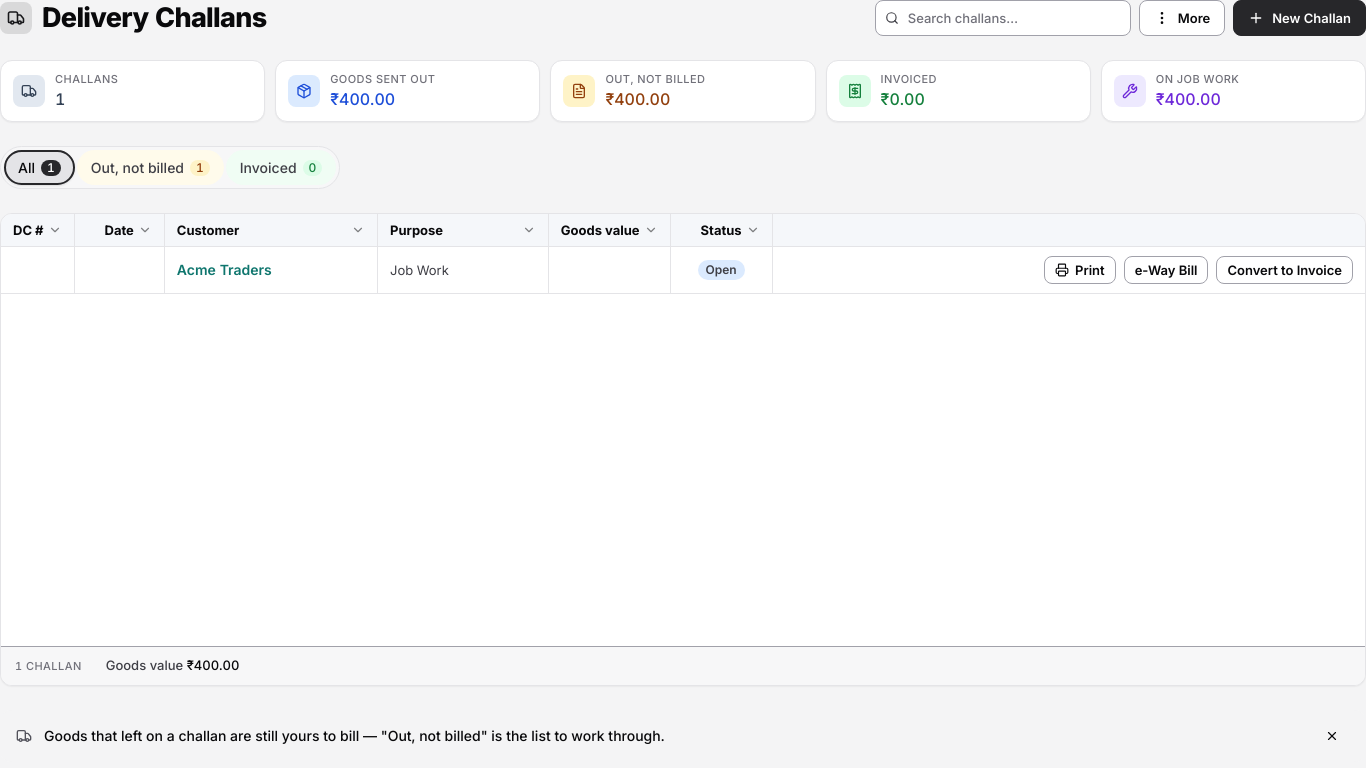
Scenario: printing a delivery challan › puts the challan on paper with its vehicle number
Click the button with aria-label "Print challan DC-4" at x=1080, y=270, box left=1044, top=256, right=1116, bottom=284
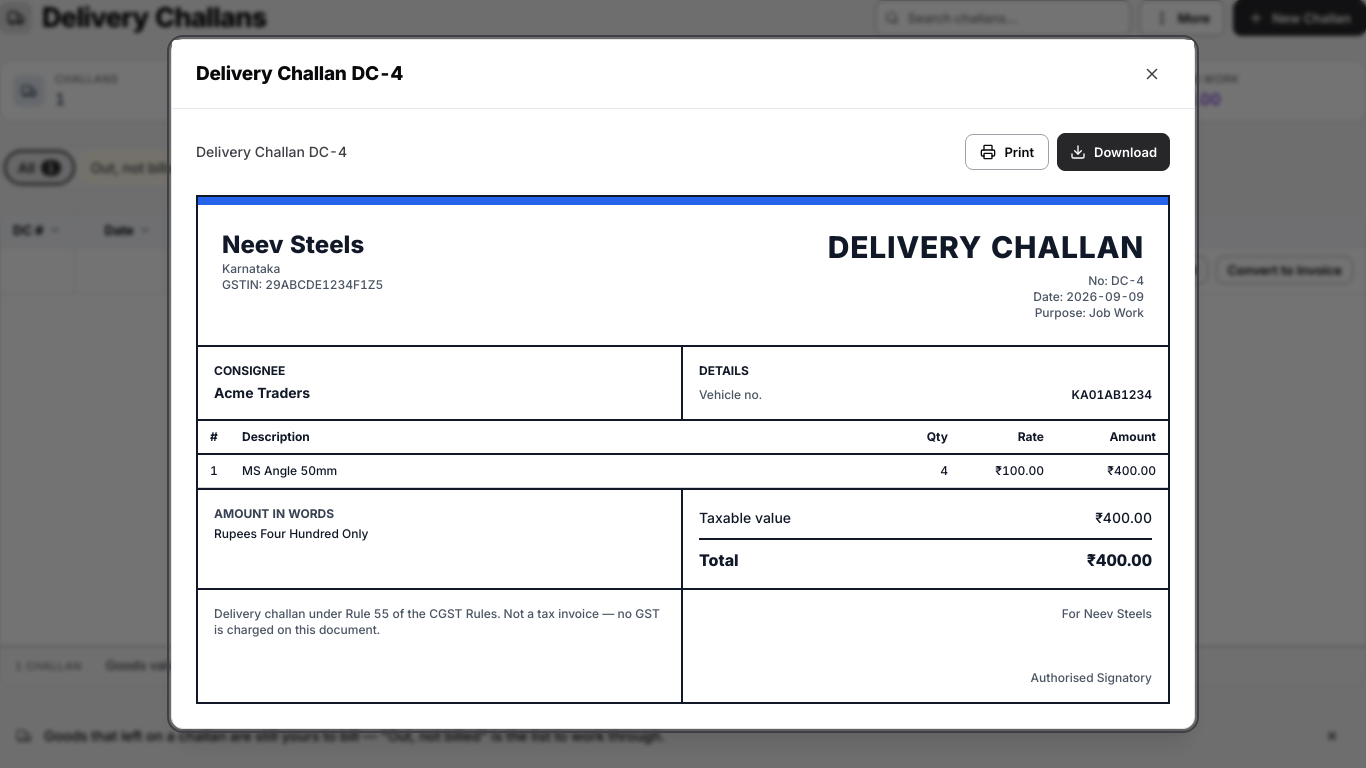
Expected: the element that starts with "Neev Steels" is shown, left=196, top=195, right=1170, bottom=704
Expected: the text "DELIVERY CHALLAN" is shown, left=828, top=229, right=1144, bottom=265
Expected: the text "No: DC-4" is shown, left=1088, top=273, right=1144, bottom=288
